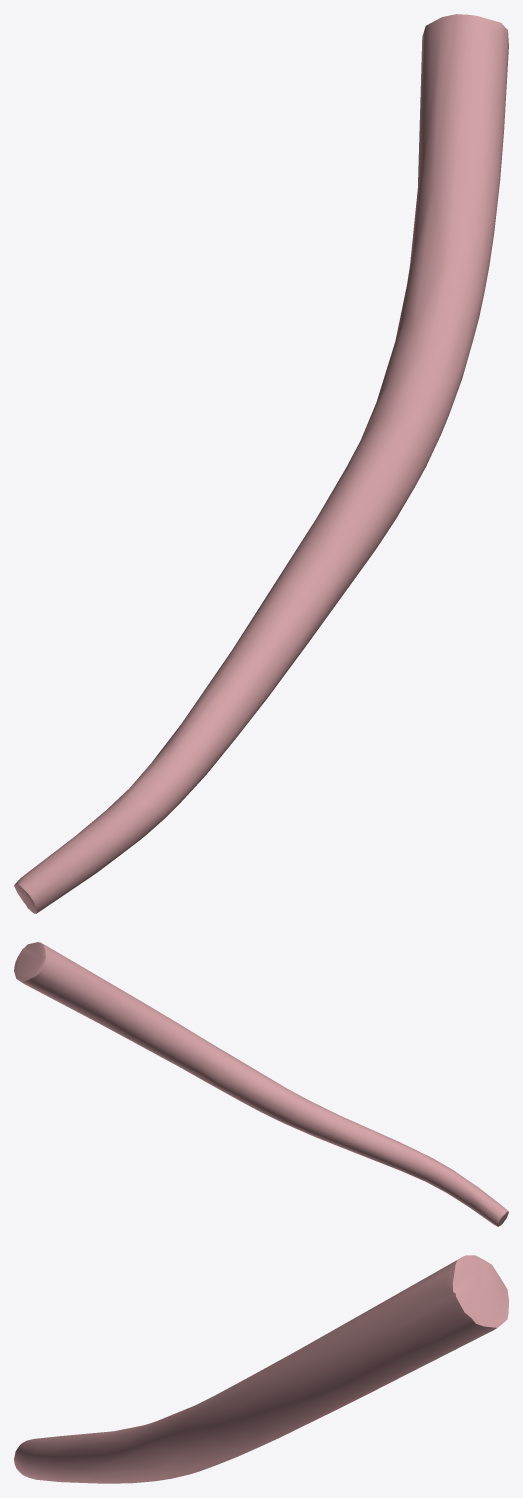
The model's file is fma68215_fj2449.glb.
The picture shows the model from 3 angles, top to bottom: view 1: azimuth 30°, elevation 25°; view 2: azimuth 150°, elevation 25°; view 3: azimuth 270°, elevation 25°; orthographic projection. The views are drawn at different scales.
Parts seen in each view (by area): view 1: FMA68215_FJ2449; view 2: FMA68215_FJ2449; view 3: FMA68215_FJ2449.
Part boxes in pixels (box(x1,y1,x2,y2)): FMA68215_FJ2449: box(14, 14, 508, 913); FMA68215_FJ2449: box(14, 942, 508, 1226); FMA68215_FJ2449: box(14, 1255, 508, 1483).
Bounding box in the file's own units: 0.0861 × 0.0639 × 0.0556.
